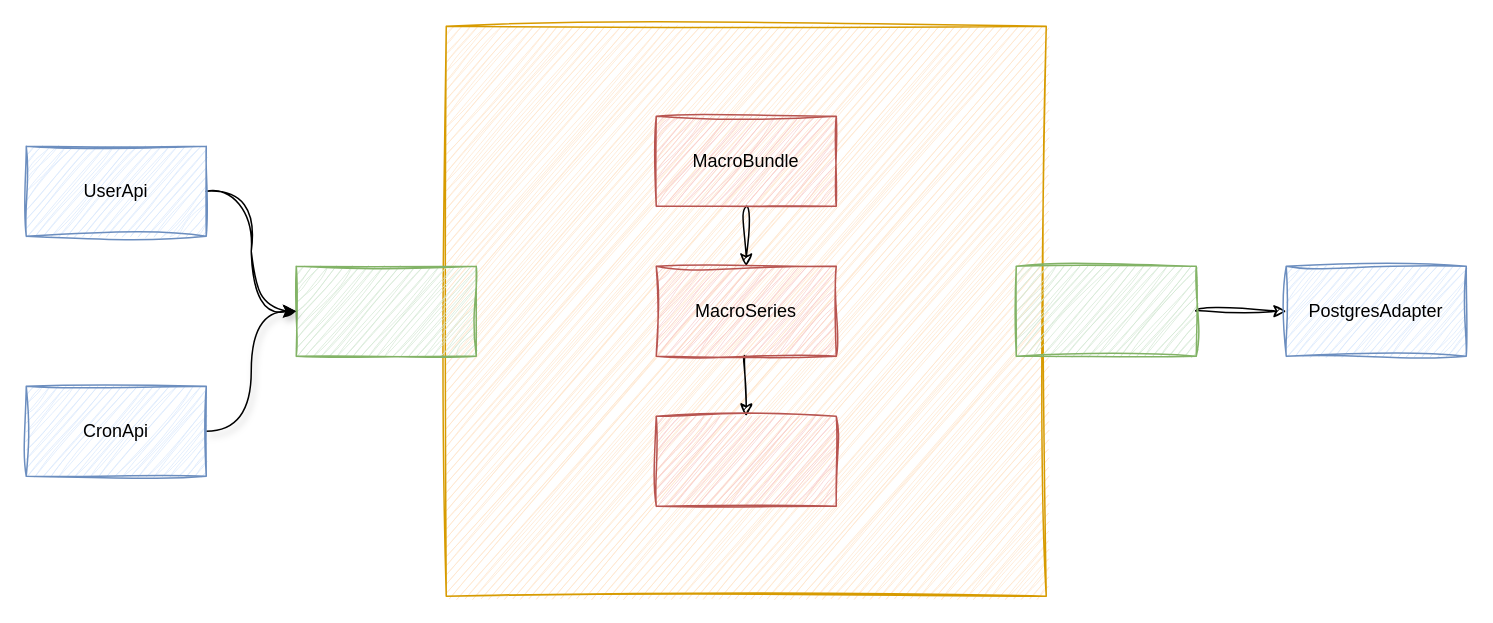
Image size: 1493x623. Some labels were removed from this diagram. Each missing label, with the centre of its shape:
"DatabasePort" belongs at point 1105,310.
"DrivingPort" belongs at point 385,310.
"MacroPoint" belongs at point 745,460.
